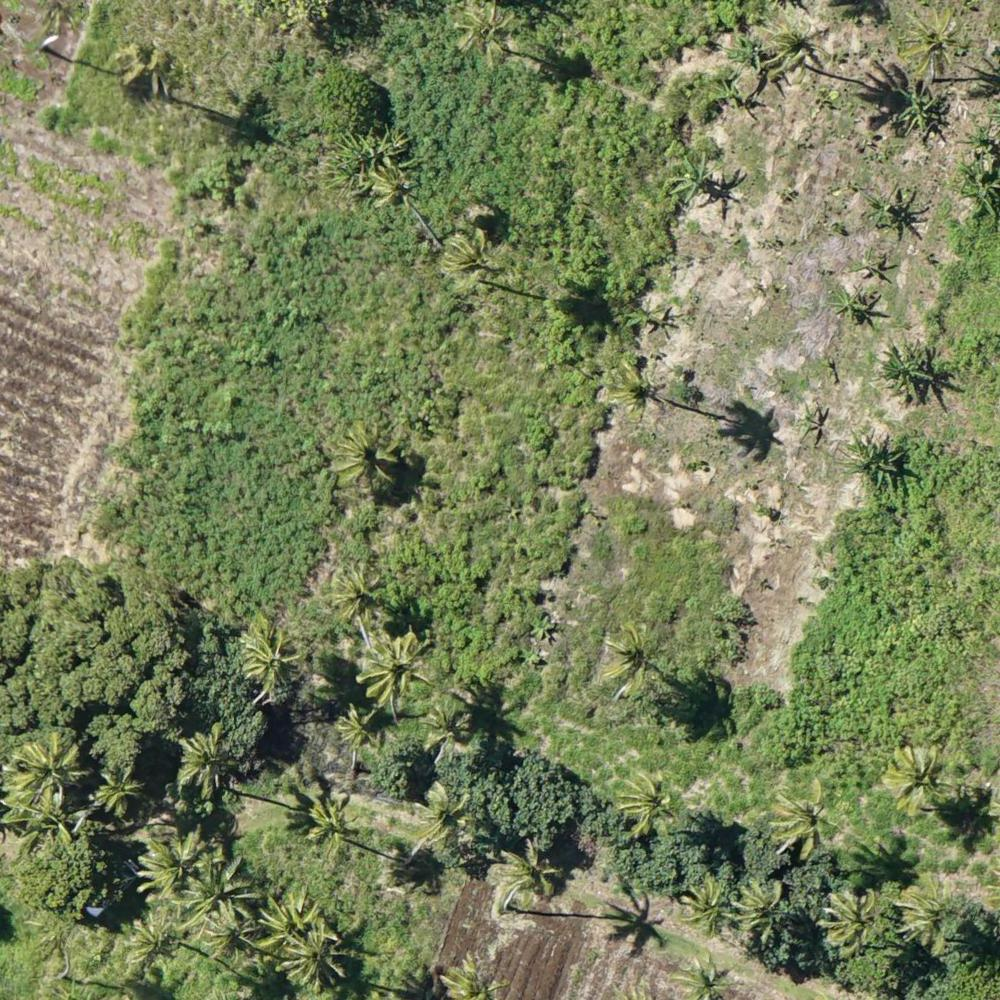Palm: (6, 738, 82, 815), (359, 633, 429, 707), (137, 831, 211, 901), (881, 745, 952, 815), (899, 6, 967, 77), (328, 422, 400, 486), (773, 784, 836, 856), (897, 881, 959, 954), (491, 839, 557, 907), (236, 627, 301, 695), (283, 930, 349, 993), (454, 1, 516, 67), (173, 727, 228, 798), (439, 230, 503, 291), (604, 624, 657, 697), (613, 771, 674, 834), (121, 916, 183, 977), (329, 561, 386, 625), (201, 898, 256, 963), (824, 889, 881, 951), (411, 786, 470, 845), (604, 361, 665, 417), (733, 877, 792, 934), (305, 793, 354, 858), (681, 874, 734, 932), (89, 768, 142, 816), (334, 706, 381, 752)
